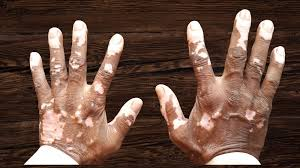vitiligo: (17, 21, 138, 147), (164, 19, 286, 137)
